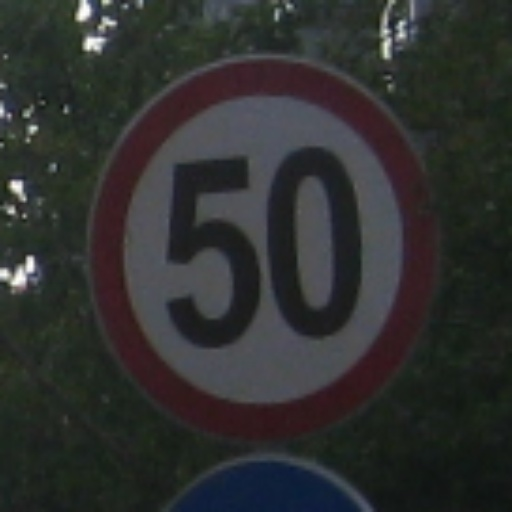Speed limit: (60, 66, 447, 406)
